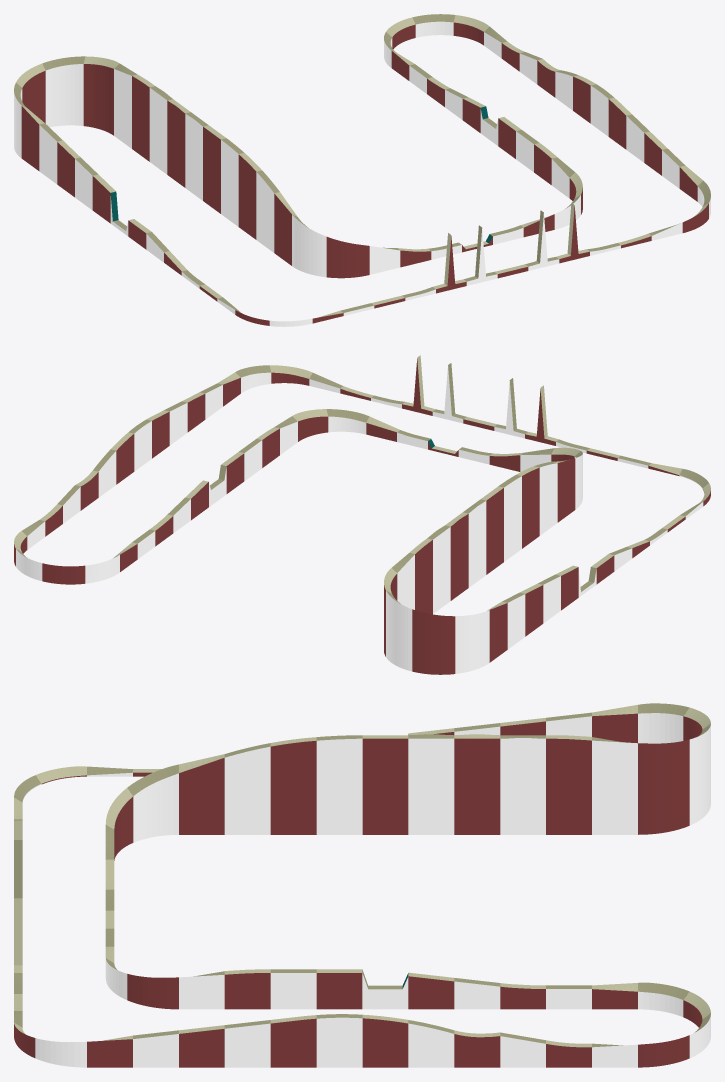
Rendered from draw-bridge.glb.
The picture shows the model from 3 angles, top to bottom: view 1: azimuth 30°, elevation 25°; view 2: azimuth 150°, elevation 25°; view 3: azimuth 270°, elevation 25°; orthographic projection. The views are drawn at different scales.
Visible parts, largest first — view 1: draw-bridge; view 2: draw-bridge; view 3: draw-bridge.
Boxes of the visible parts, box(x1,y1,x2,y2) form: draw-bridge: box(14, 14, 710, 326); draw-bridge: box(14, 355, 710, 674); draw-bridge: box(14, 703, 710, 1067).
Bounding box in the file's own units: 30.38 × 4.66 × 30.38.
